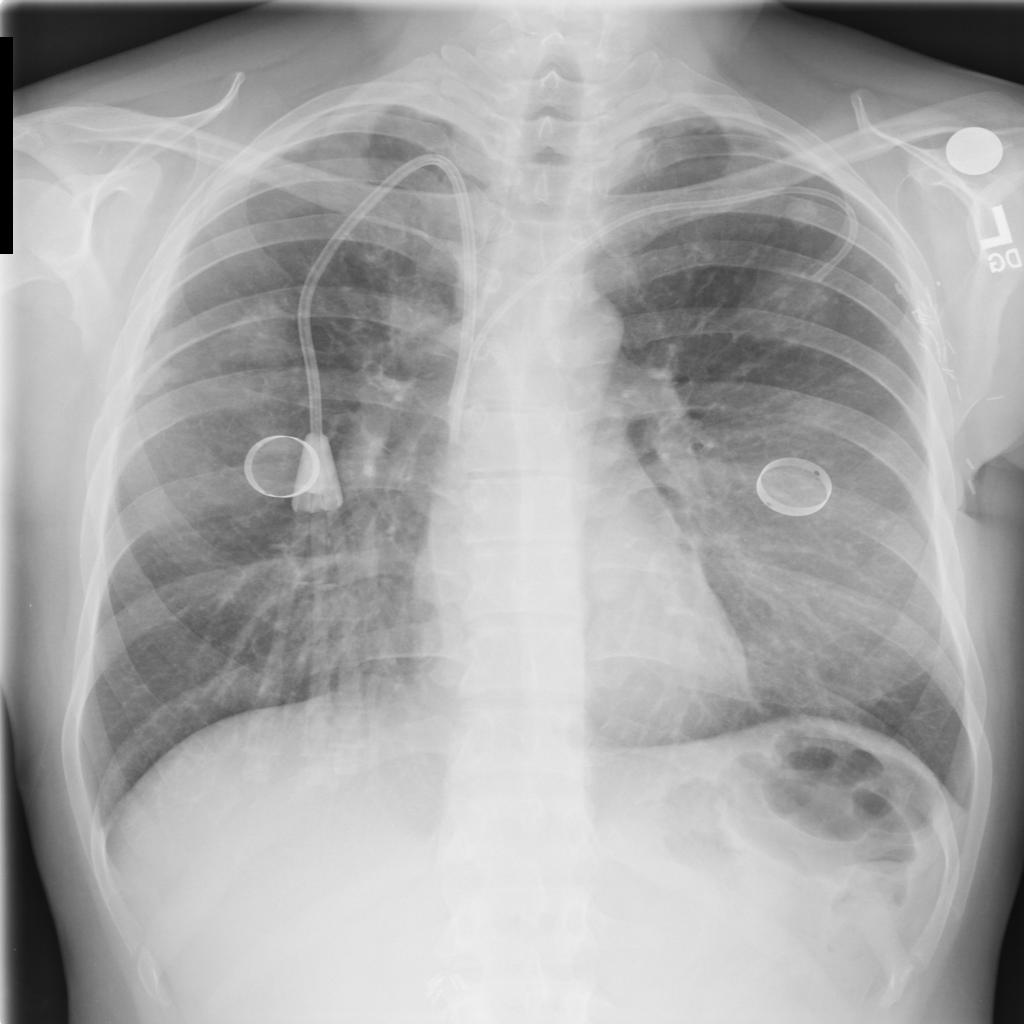nodule: (728, 252, 852, 355), (203, 291, 311, 385), (778, 188, 835, 235)
